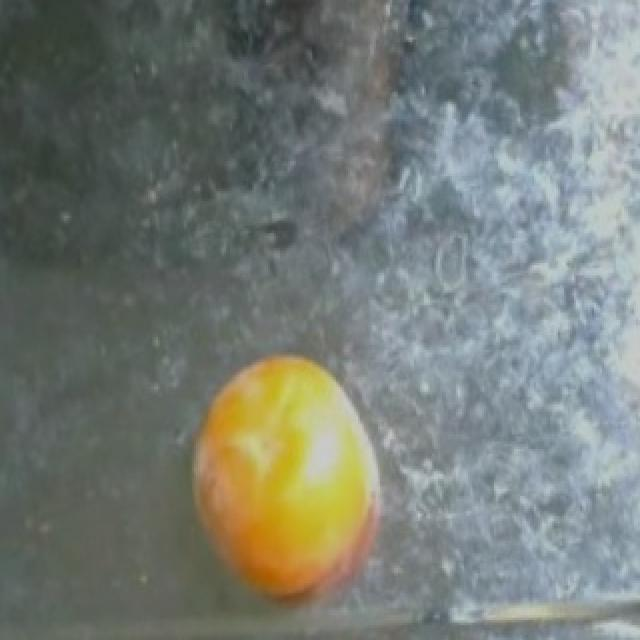Fruit: (170, 360, 402, 638)
